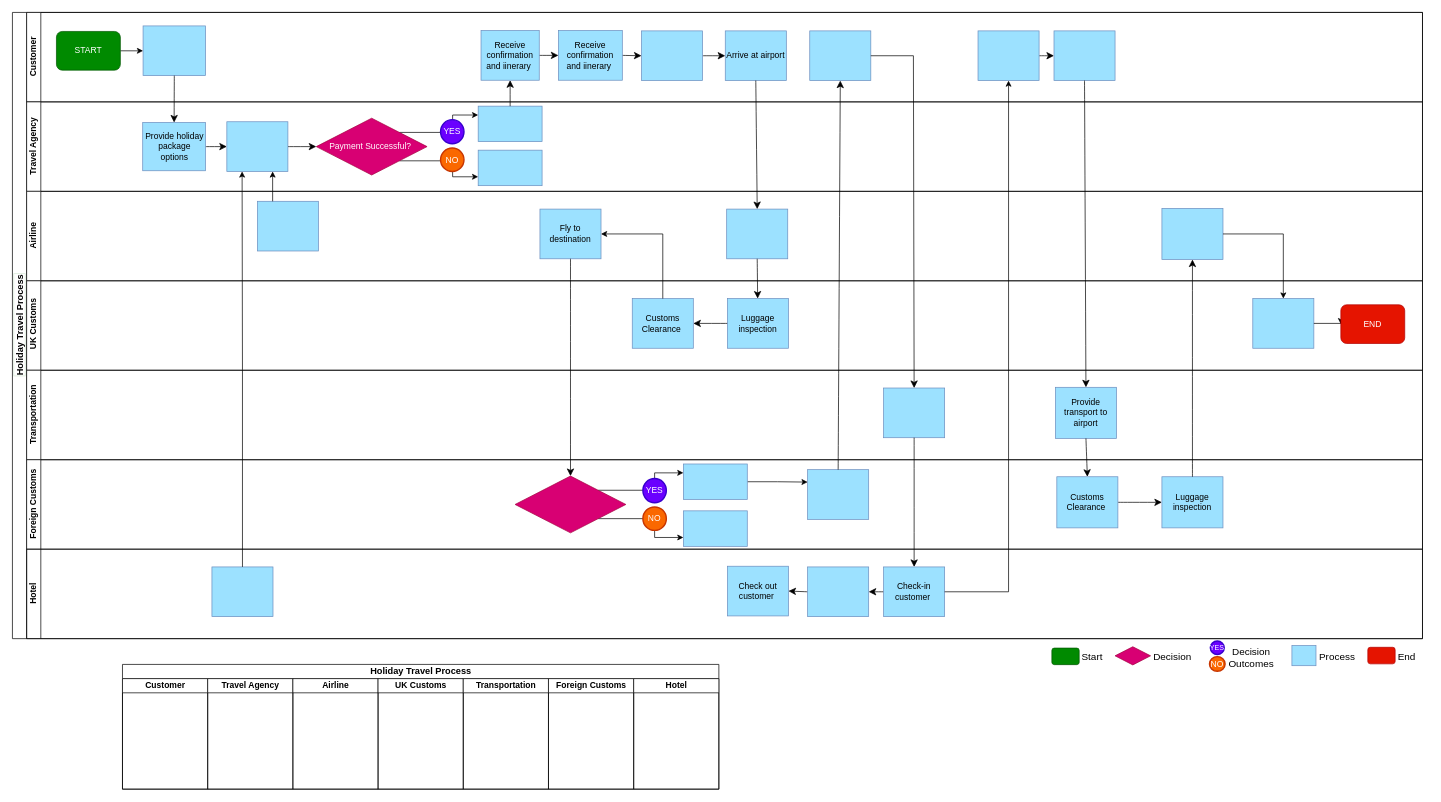
Image size: 1441x802. Some labels were removed from this diagram. The box of each missing label's shape, as (x1, y1, x2, y2) in pixels:
Collect baggage: (809, 30, 871, 81)
Confirm flights: (257, 201, 318, 251)
Confirm reservation: (211, 566, 273, 617)
Customer clears immigration: (683, 463, 747, 499)
Customer resolves issue with immigration: (683, 510, 747, 546)
Engage in holiday activities: (977, 30, 1039, 81)
Fly to home destination: (1161, 208, 1223, 260)
Handle Luggage: (726, 208, 788, 259)
Is passport and visa valid for entry?: (514, 475, 626, 533)
Pack and prepare: (641, 30, 703, 81)
Prepare for return: (1053, 30, 1115, 81)
Process booking: (226, 121, 288, 171)
Process re-entry: (1252, 298, 1314, 348)
Provide confirmation and itinerary: (477, 105, 542, 142)
Provide services during stay: (807, 566, 869, 617)
Provide transport to hotel: (883, 387, 945, 438)
Request payment retry: (477, 149, 542, 186)
Research and book holiday: (142, 25, 206, 76)
Stamp passport: (807, 469, 869, 519)
